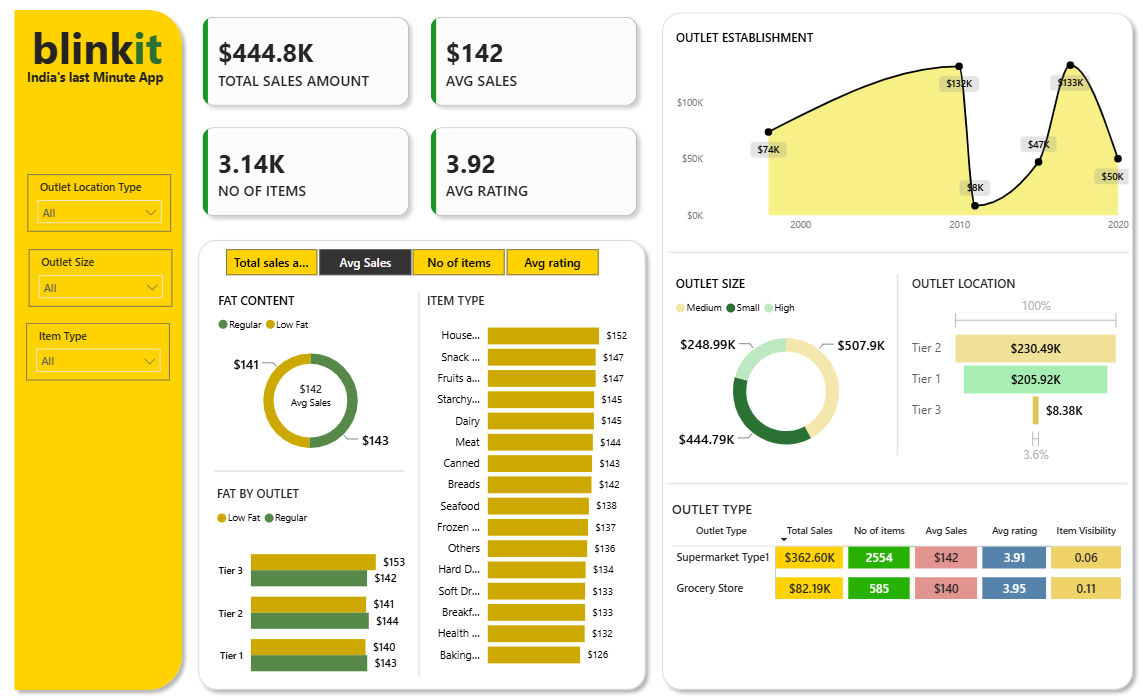

What the dashboard file says about the page in this screenshot:
{"tool":"powerbi","page":{"name":"Page 1","canvas":[1300,820],"ordinal":0},"visuals":[{"type":"shape","box":[18.1,26.5,204.9,776.3],"z":0},{"type":"textbox","box":[41.8,39,207.7,92],"z":1000},{"type":"textbox","box":[36.2,96.2,207.7,40.4],"z":2000},{"type":"cardVisual","fields":{"Data":["BlinkIT_Cleaned.Total sales amount","BlinkIT_Cleaned.Avg Sales","BlinkIT_Cleaned.No of items","BlinkIT_Cleaned.Avg rating"]},"box":[220.2,26.5,519.8,256.4],"z":3000},{"type":"shape","box":[223,282.9,517,519.8],"z":4000},{"type":"slicer","fields":{"Values":["Metrics.Metrics"]},"box":[236.9,291.3,465.5,47.4],"z":5000},{"type":"donutChart","title":"FAT CONTENT","fields":{"Y":["BlinkIT_Cleaned.Avg Sales"],"Category":["BlinkIT_Cleaned.Item Fat Content"]},"box":[249.5,349.8,216,197.9],"z":5000},{"type":"cardVisual","fields":{"Data":["BlinkIT_Cleaned.Avg Sales"]},"box":[324.7,437.6,66.9,54.4],"z":6001},{"type":"clusteredBarChart","title":"FAT BY OUTLET","fields":{"Y":["BlinkIT_Cleaned.Avg Sales"],"Category":["BlinkIT_Cleaned.Outlet Location Type"],"Series":["BlinkIT_Cleaned.Item Fat Content"]},"box":[248.1,565.8,230,232.7],"z":7000},{"type":"shape","box":[250.9,543.5,210,12.5],"z":8000},{"type":"shape","box":[461.3,349.8,33.4,429.2],"z":9000},{"type":"barChart","title":"ITEM TYPE","fields":{"Y":["BlinkIT_Cleaned.Avg Sales"],"Category":["BlinkIT_Cleaned.Item Type"]},"box":[482.2,349.8,241.1,429.2],"z":10000},{"type":"shape","box":[740,29.3,543.5,773.5],"z":11000},{"type":"lineChart","title":"OUTLET ESTABLISHMENT","fields":{"Y":["BlinkIT_Cleaned.Total sales amount"],"Category":["BlinkIT_Cleaned.Outlet Establishment Year"]},"box":[756.8,57.1,512.9,235.5],"z":12000},{"type":"shape","box":[756.8,299.6,512.9,12.5],"z":13000},{"type":"donutChart","title":"OUTLET SIZE","fields":{"Y":["Sum(BlinkIT_Cleaned.Total Sales)"],"Category":["BlinkIT_Cleaned.Outlet Size"]},"box":[759.5,331.7,256.4,213.2],"z":13001},{"type":"funnel","title":"OUTLET LOCATION","fields":{"Category":["BlinkIT_Cleaned.Outlet Location Type"],"Y":["Sum(BlinkIT_Cleaned.Total Sales)"]},"box":[1022.9,331.7,242.5,214.6],"z":13002},{"type":"shape","box":[995.1,330.3,33.4,202.1],"z":13003},{"type":"shape","box":[755.4,557.5,512.9,12.5],"z":13004},{"type":"pivotTable","title":"OUTLET TYPE","fields":{"Rows":["BlinkIT_Cleaned.Outlet Type"],"Values":["Sum(BlinkIT_Cleaned.Total Sales)","BlinkIT_Cleaned.No of items","BlinkIT_Cleaned.Avg Sales","BlinkIT_Cleaned.Avg rating","Avg(BlinkIT_Cleaned.Item Visibility)"]},"box":[755.4,581.2,528.2,200.7],"z":13005},{"type":"slicer","fields":{"Values":["BlinkIT_Cleaned.Outlet Location Type"]},"box":[41.8,218.8,160.3,64.1],"z":13006},{"type":"slicer","fields":{"Values":["BlinkIT_Cleaned.Outlet Size"]},"box":[43.2,302.4,160.3,64.1],"z":13007},{"type":"slicer","fields":{"Values":["BlinkIT_Cleaned.Item Type"]},"box":[40.4,384.6,160.3,64.1],"z":13008}]}

Visuals, with their boxes in screenshot pixels (x1, y1, x2, y2), scaled from the page's 1300x820 canvas onto the 1143x700 screenshot:
shape: crop(16, 23, 196, 685)
textbox: crop(37, 33, 219, 112)
textbox: crop(32, 82, 214, 117)
cardVisual - BlinkIT_Cleaned.Total sales amount x BlinkIT_Cleaned.Avg Sales: crop(194, 23, 651, 241)
shape: crop(196, 241, 651, 685)
slicer - Metrics.Metrics: crop(208, 249, 618, 289)
"FAT CONTENT" donutChart: crop(219, 299, 409, 468)
cardVisual - BlinkIT_Cleaned.Avg Sales: crop(285, 374, 344, 420)
"FAT BY OUTLET" clusteredBarChart: crop(218, 483, 420, 682)
shape: crop(221, 464, 405, 475)
shape: crop(406, 299, 435, 665)
"ITEM TYPE" barChart: crop(424, 299, 636, 665)
shape: crop(651, 25, 1128, 685)
"OUTLET ESTABLISHMENT" lineChart: crop(665, 49, 1116, 250)
shape: crop(665, 256, 1116, 266)
"OUTLET SIZE" donutChart: crop(668, 283, 893, 465)
"OUTLET LOCATION" funnel: crop(899, 283, 1113, 466)
shape: crop(875, 282, 904, 454)
shape: crop(664, 476, 1115, 487)
"OUTLET TYPE" pivotTable: crop(664, 496, 1129, 667)
slicer - BlinkIT_Cleaned.Outlet Location Type: crop(37, 187, 178, 241)
slicer - BlinkIT_Cleaned.Outlet Size: crop(38, 258, 179, 313)
slicer - BlinkIT_Cleaned.Item Type: crop(36, 328, 176, 383)
